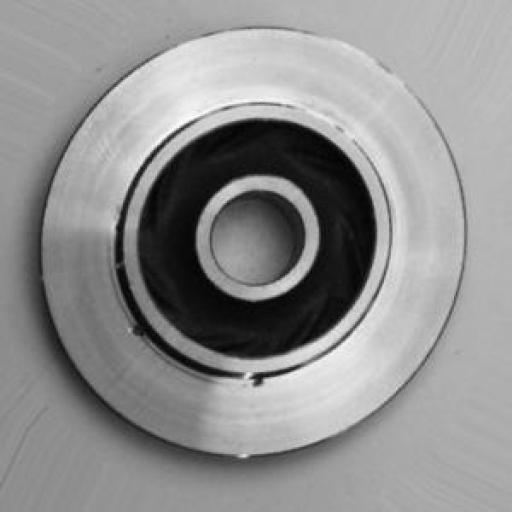defect: (122, 311, 304, 412)
